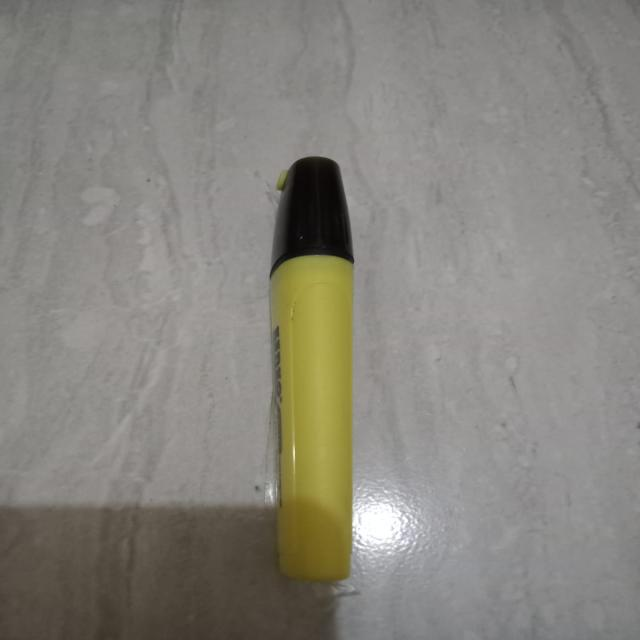highlighter: (240, 148, 389, 600)
